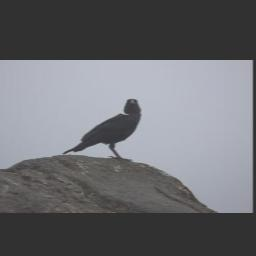Crow: (63, 97, 143, 160)
